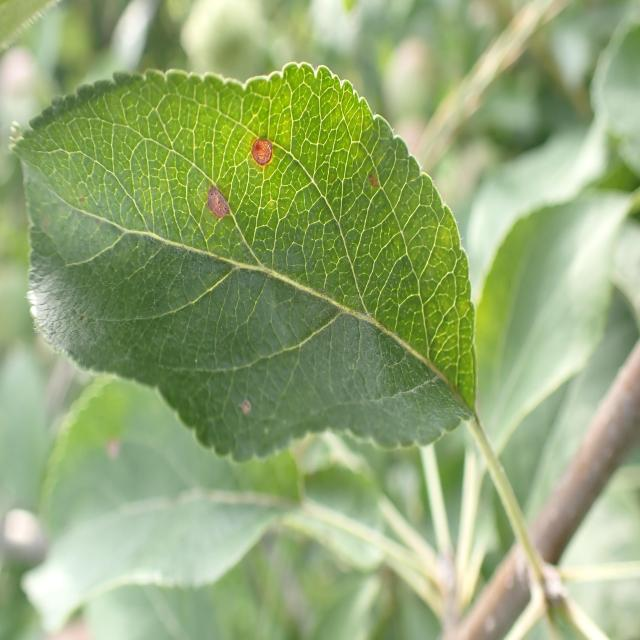Black Rot: (198, 165, 239, 244), (350, 158, 390, 210), (242, 118, 274, 170)
